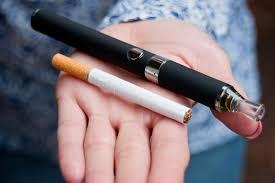smoke: (51, 53, 193, 125)
